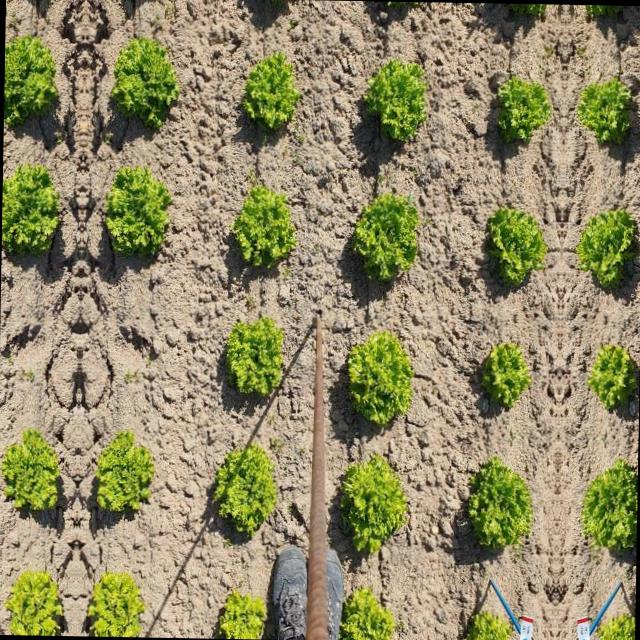healthy: (331, 449, 415, 555), (344, 183, 424, 284), (456, 458, 538, 556), (340, 326, 416, 430), (206, 438, 282, 539), (222, 178, 298, 274), (102, 161, 176, 257), (110, 30, 184, 126), (358, 50, 432, 146), (88, 426, 158, 520), (220, 313, 292, 402), (0, 425, 67, 519), (485, 194, 550, 289), (576, 459, 638, 558), (573, 196, 638, 290), (232, 44, 298, 134), (1, 158, 62, 254), (3, 28, 58, 124), (476, 336, 536, 415), (494, 68, 552, 149), (576, 70, 634, 150), (582, 338, 640, 417), (82, 566, 146, 637), (5, 564, 68, 636), (340, 581, 401, 640), (216, 586, 270, 639), (464, 599, 520, 640), (589, 600, 635, 640)
